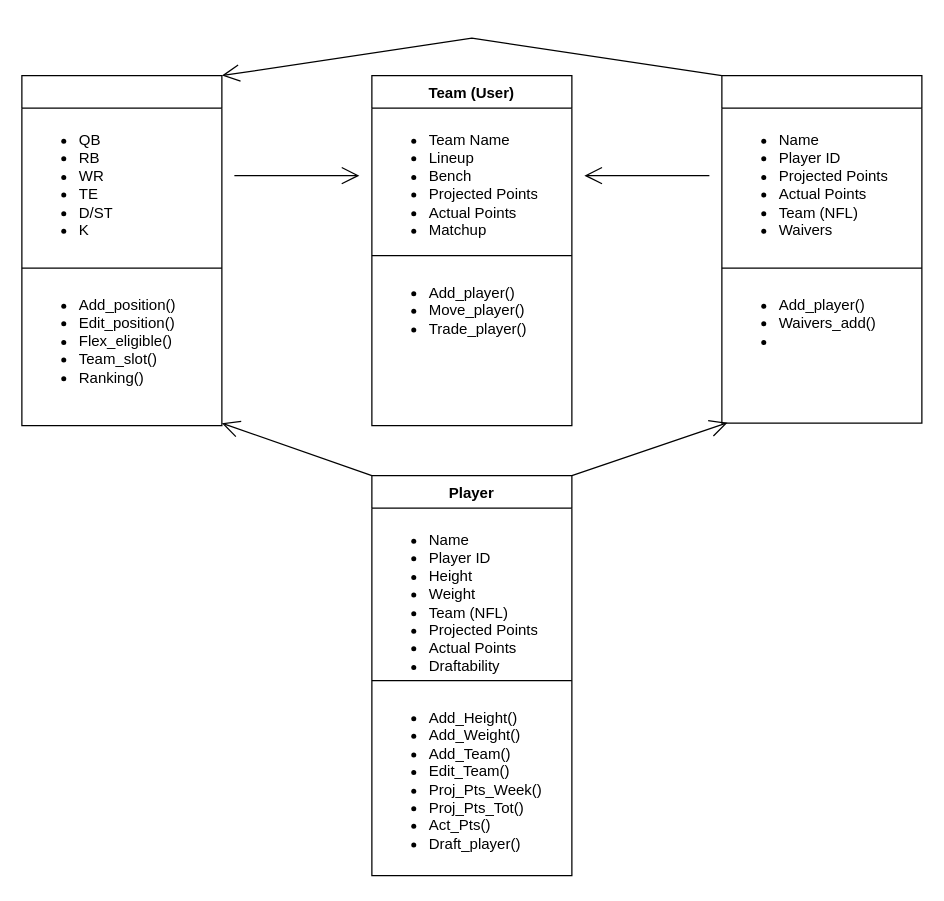
This 944x901 diagram has some shape labels left out. The box of each missing label's shape, as (x1, y1, x2, y2) in pixels:
Free Agent: (721, 74, 922, 423)
Postition: (21, 74, 222, 426)
